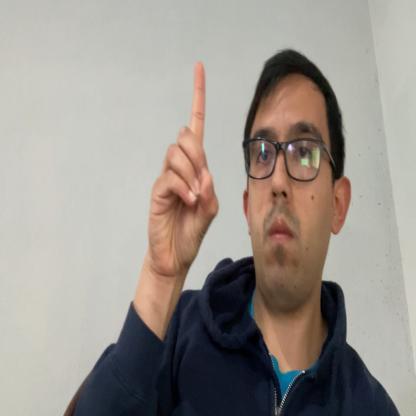D: (148, 62, 218, 279)
